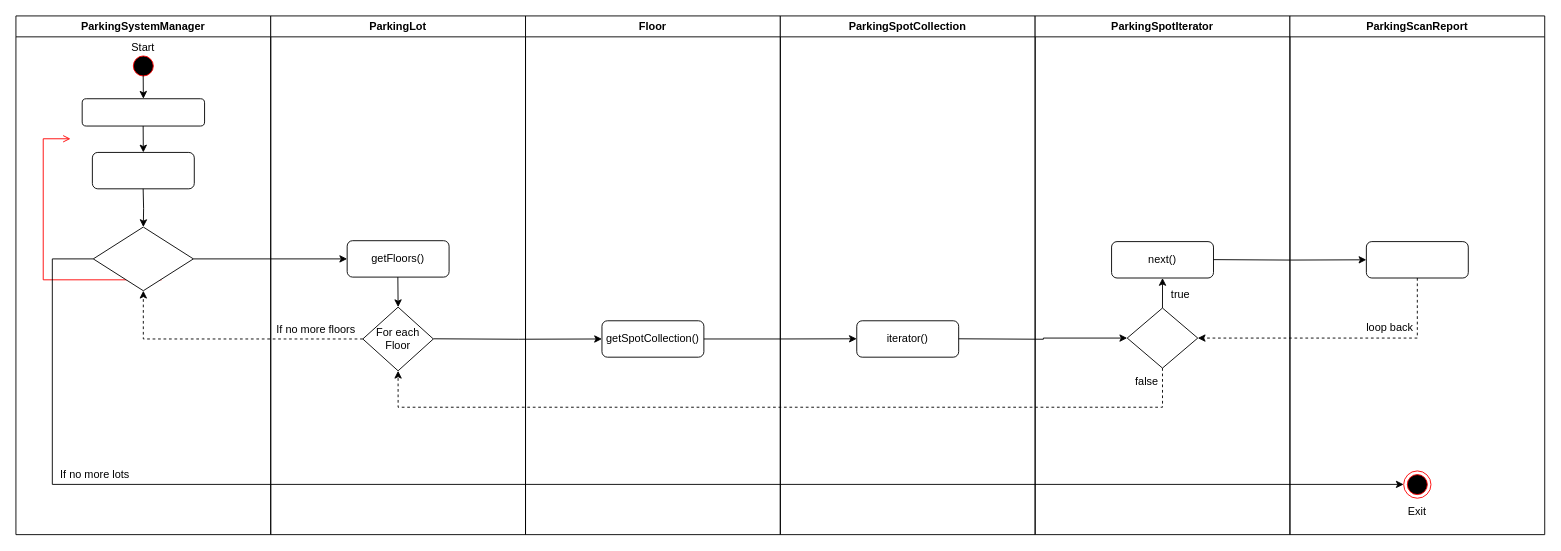
This 1561x551 diagram has some shape labels left out. The shapes that lost their labels are listed below. From the top down, each one's centre as x and y in pixels, then its label:
pixel 143 112: scanAllParkingSpots()
pixel 142 170: Create ParkingScanReport
pixel 142 258: For each ParkingLot
pixel 1416 259: consume(spot)
pixel 1162 337: hasNext()?
